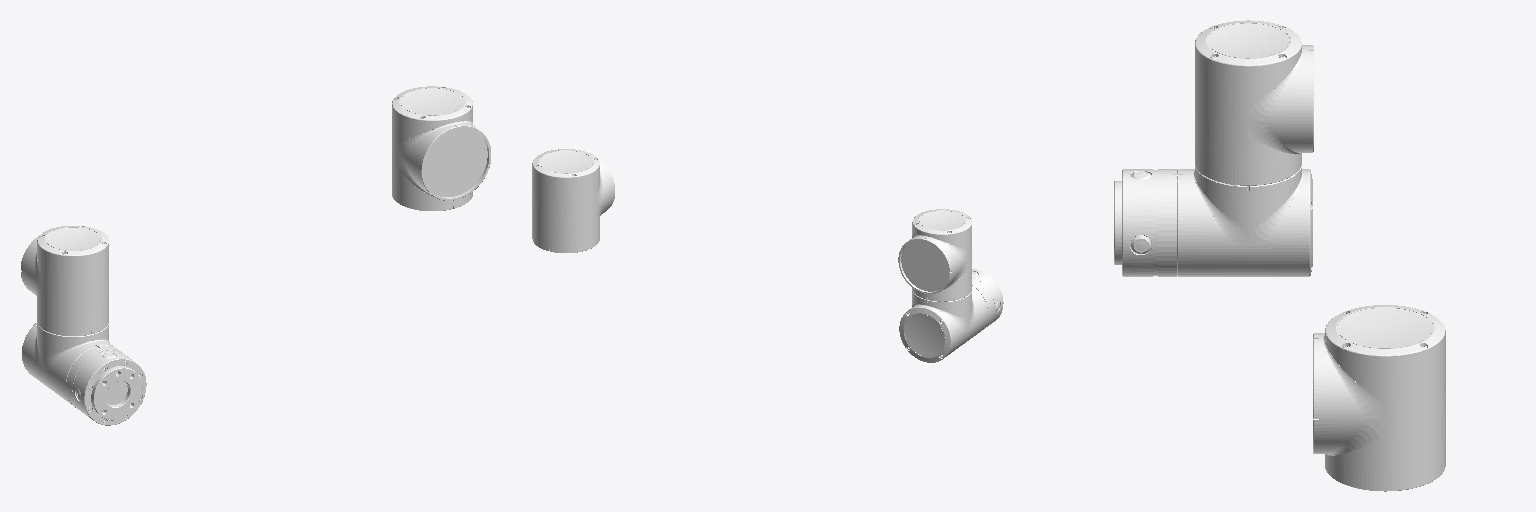
URDF robot description (fr3c):
<?xml version="1.0" encoding="utf-8"?>
<!-- This URDF was automatically created by SolidWorks to URDF Exporter! Originally created by Stephen Brawner (brawner@gmail.com) 
     Commit Version: 1.5.1-0-g916b5db  Build Version: 1.5.7152.31018
     For more information, please see http://wiki.ros.org/sw_urdf_exporter -->
<robot
  name="fr3c">
  <link
    name="base_link">
    <inertial>
      <origin
        xyz="-1.5389E-05 0.0050006 0.035726"
        rpy="0 0 0" />
      <mass
        value="0.60007" />
      <inertia
        ixx="0.00077666"
        ixy="5.901E-07"
        ixz="4.3886E-07"
        iyy="0.00066312"
        iyz="-1.924E-05"
        izz="0.00080686" />
    </inertial>
    <visual>
      <origin
        xyz="0 0 0"
        rpy="0 0 0" />
      <geometry>
        <mesh
          filename="package://fairino_description/meshes/fr3c/visual/base_link.dae" />
      </geometry>
      <material
        name="">
        <color
          rgba="1 1 1 1" />
      </material>
    </visual>
    <collision>
      <origin
        xyz="0 0 0"
        rpy="0 0 0" />
      <geometry>
        <mesh
          filename="package://fairino_description/meshes/fr3c/collision/base_link.STL" />
      </geometry>
    </collision>
  </link>
  <link
    name="shoulder_Link">
    <inertial>
      <origin
        xyz="-0.00016 -0.01399 0.00153"
        rpy="0 0 0" />
      <mass
        value="1.69" />
      <inertia
        ixx="0.00230233"
        ixy="0.00000796"
        ixz="0.00000988"
        iyy="0.00172232"
        iyz="0.00003216"
        izz="0.00230714" />
    </inertial>
    <visual>
      <origin
        xyz="0 0 0"
        rpy="0 0 0" />
      <geometry>
        <mesh
          filename="package://fairino_description/meshes/fr3c/visual/shoulder_Link.dae" />
      </geometry>
      <material
        name="">
        <color
          rgba="1 1 1 1" />
      </material>
    </visual>
    <collision>
      <origin
        xyz="0 0 0"
        rpy="0 0 0" />
      <geometry>
        <mesh
          filename="package://fairino_description/meshes/fr3c/collision/shoulder_Link.STL" />
      </geometry>
    </collision>
  </link>
  <joint
    name="j1"
    type="revolute">
    <origin
      xyz="0 0 0"
      rpy="0 0 0" />
    <parent
      link="base_link" />
    <child
      link="shoulder_Link" />
    <axis
      xyz="0 0 1" />
    <limit
      lower="-3.0543"
      upper="3.0543"
      effort="110"
      velocity="3.15" />
    <calibration
      rising="0"
      falling="0" />
    <dynamics
      damping="0"
      friction="0" />
    <safety_controller
      soft_upper_limit="3.0543"
      soft_lower_limit="-3.0543"
      k_position="110"
      k_velocity="3.15" />
  </joint>
  <link
    name="upperarm_Link">
    <inertial>
      <origin
        xyz="0.14 0 0.10134"
        rpy="0 0 0" />
      <mass
        value="3.73" />
      <inertia
        ixx="0.00529686"
        ixy="0.00005608"
        ixz="0.00000013"
        iyy="0.07120429"
        iyz="0.00000005"
        izz="0.06998187" />
    </inertial>
    <visual>
      <origin
        xyz="0 0 0"
        rpy="0 0 0" />
      <geometry>
        <mesh
          filename="package://fairino_description/meshes/fr3c/visual/upperarm_Link.dae" />
      </geometry>
      <material
        name="">
        <color
          rgba="1 1 1 1" />
      </material>
    </visual>
    <collision>
      <origin
        xyz="0 0 0"
        rpy="0 0 0" />
      <geometry>
        <mesh
          filename="package://fairino_description/meshes/fr3c/collision/upperarm_Link.STL" />
      </geometry>
    </collision>
  </link>
  <joint
    name="j2"
    type="revolute">
    <origin
      xyz="0 0 0.14"
      rpy="1.5708 0 0" />
    <parent
      link="shoulder_Link" />
    <child
      link="upperarm_Link" />
    <axis
      xyz="0 0 1" />
    <limit
      lower="-4.6251"
      upper="1.4835"
      effort="110"
      velocity="3.15" />
    <calibration
      rising="0"
      falling="0" />
    <dynamics
      damping="0"
      friction="0" />
    <safety_controller
      soft_upper_limit="1.4835"
      soft_lower_limit="-4.6251"
      k_position="110"
      k_velocity="3.15" />
  </joint>
  <link
    name="forearm_Link">
    <inertial>
      <origin
        xyz="0.06324 0.00008 0.01104"
        rpy="0 0 0" />
      <mass
        value="1.84" />
      <inertia
        ixx="0.00224646"
        ixy="0.00000255"
        ixz="0.00000765"
        iyy="0.01764629"
        iyz="0.00000075"
        izz="0.01732032" />
    </inertial>
    <visual>
      <origin
        xyz="0 0 0"
        rpy="0 0 0" />
      <geometry>
        <mesh
          filename="package://fairino_description/meshes/fr3c/visual/forearm_Link.dae" />
      </geometry>
      <material
        name="">
        <color
          rgba="1 1 1 1" />
      </material>
    </visual>
    <collision>
      <origin
        xyz="0 0 0"
        rpy="0 0 0" />
      <geometry>
        <mesh
          filename="package://fairino_description/meshes/fr3c/collision/forearm_Link.STL" />
      </geometry>
    </collision>
  </link>
  <joint
    name="j3"
    type="revolute">
    <origin
      xyz="-0.28 0 3.3292E-05"
      rpy="0 0 0" />
    <parent
      link="upperarm_Link" />
    <child
      link="forearm_Link" />
    <axis
      xyz="0 0 1" />
    <limit
      lower="-2.618"
      upper="2.618"
      effort="110"
      velocity="3.15" />
    <calibration
      rising="0"
      falling="0" />
    <dynamics
      damping="0"
      friction="0" />
    <safety_controller
      soft_upper_limit="2.618"
      soft_lower_limit="-2.618"
      k_position="110"
      k_velocity="3.15" />
  </joint>
  <link
    name="wrist1_Link">
    <inertial>
      <origin
        xyz="0.0001 -0.00203 0.01255"
        rpy="0 0 0" />
      <mass
        value="1.2" />
      <inertia
        ixx="0.00131806"
        ixy="-0.00000258"
        ixz="-0.00000247"
        iyy="0.00130342"
        iyz="-0.00002666"
        izz="0.0009916" />
    </inertial>
    <visual>
      <origin
        xyz="0 0 0"
        rpy="0 0 0" />
      <geometry>
        <mesh
          filename="package://fairino_description/meshes/fr3c/visual/wrist1_Link.dae" />
      </geometry>
      <material
        name="">
        <color
          rgba="1 1 1 1" />
      </material>
    </visual>
    <collision>
      <origin
        xyz="0 0 0"
        rpy="0 0 0" />
      <geometry>
        <mesh
          filename="package://fairino_description/meshes/fr3c/collision/wrist1_Link.STL" />
      </geometry>
    </collision>
  </link>
  <joint
    name="j4"
    type="revolute">
    <origin
      xyz="-0.24 0 2.7002E-05"
      rpy="0 0 0" />
    <parent
      link="forearm_Link" />
    <child
      link="wrist1_Link" />
    <axis
      xyz="0 0 1" />
    <limit
      lower="-4.6251"
      upper="1.4835"
      effort="63"
      velocity="3.2" />
    <calibration
      rising="0"
      falling="0" />
    <dynamics
      damping="0"
      friction="0" />
    <safety_controller
      soft_upper_limit="1.4835"
      soft_lower_limit="-4.6251"
      k_position="63"
      k_velocity="3.2" />
  </joint>
  <link
    name="wrist2_Link">
    <inertial>
      <origin
        xyz="-0.0001 0.00203 0.01255"
        rpy="0 0 0" />
      <mass
        value="1.2" />
      <inertia
        ixx="0.00131806"
        ixy="-0.00000258"
        ixz="0.00000247"
        iyy="0.00130342"
        iyz="0.00002666"
        izz="0.0009916" />
    </inertial>
    <visual>
      <origin
        xyz="0 0 0"
        rpy="0 0 0" />
      <geometry>
        <mesh
          filename="package://fairino_description/meshes/fr3c/visual/wrist2_Link.dae" />
      </geometry>
      <material
        name="">
        <color
          rgba="1 1 1 1" />
      </material>
    </visual>
    <collision>
      <origin
        xyz="0 0 0"
        rpy="0 0 0" />
      <geometry>
        <mesh
          filename="package://fairino_description/meshes/fr3c/collision/wrist2_Link.STL" />
      </geometry>
    </collision>
  </link>
  <joint
    name="j5"
    type="revolute">
    <origin
      xyz="1.1476E-05 0 0.102"
      rpy="1.5708 0 0" />
    <parent
      link="wrist1_Link" />
    <child
      link="wrist2_Link" />
    <axis
      xyz="0 0 1" />
    <limit
      lower="0"
      upper="6.2657"
      effort="63"
      velocity="3.2" />
    <calibration
      rising="0"
      falling="0" />
    <dynamics
      damping="0"
      friction="0" />
    <safety_controller
      soft_upper_limit="6.2657"
      soft_lower_limit="0"
      k_position="63"
      k_velocity="3.2" />
  </joint>
  <link
    name="wrist3_Link">
    <inertial>
      <origin
        xyz="-0.00148 -0.00154 -0.0179"
        rpy="0 0 0" />
      <mass
        value="0.53" />
      <inertia
        ixx="0.00033622"
        ixy="0.00000116"
        ixz="0.00000051"
        iyy="0.00033508"
        iyz="0.00000089"
        izz="0.00053494" />
    </inertial>
    <visual>
      <origin
        xyz="0 0 0"
        rpy="0 0 0" />
      <geometry>
        <mesh
          filename="package://fairino_description/meshes/fr3c/visual/wrist3_Link.dae" />
      </geometry>
      <material
        name="">
        <color
          rgba="1 1 1 1" />
      </material>
    </visual>
    <collision>
      <origin
        xyz="0 0 0"
        rpy="0 0 0" />
      <geometry>
        <mesh
          filename="package://fairino_description/meshes/fr3c/collision/wrist3_Link.STL" />
      </geometry>
    </collision>
  </link>
  <joint
    name="j6"
    type="revolute">
    <origin
      xyz="1.1255E-05 0.1 0.102"
      rpy="-1.5708 0 0" />
    <parent
      link="wrist2_Link" />
    <child
      link="wrist3_Link" />
    <axis
      xyz="0 0 1" />
    <limit
      lower="-3.0543"
      upper="3.0543"
      effort="63"
      velocity="3.2" />
    <calibration
      rising="0"
      falling="0" />
    <dynamics
      damping="0"
      friction="0" />
    <safety_controller
      soft_upper_limit="3.0543"
      soft_lower_limit="-3.0543"
      k_position="63"
      k_velocity="3.2" />
  </joint>
</robot>

--- Facts derived from the render (not from the file) ---
3 views of the same robot in one strip: view 1: azimuth 30°, elevation 25°; view 2: azimuth 150°, elevation 25°; view 3: azimuth 270°, elevation 25° (orthographic).
Model fr3c with 7 links and 6 joints (6 revolute), rooted at base_link, posed all joints at 0.
Visible links, largest first — view 1: shoulder_Link, wrist1_Link, wrist3_Link, wrist2_Link; view 2: shoulder_Link, wrist1_Link, wrist2_Link, wrist3_Link; view 3: shoulder_Link, wrist1_Link, wrist2_Link, wrist3_Link.
Boxes of the visible links, <box> form: shoulder_Link: <box>392,86,490,210</box>; wrist1_Link: <box>21,226,108,335</box>; wrist3_Link: <box>66,345,146,425</box>; wrist2_Link: <box>22,322,116,407</box>; shoulder_Link: <box>532,149,614,252</box>; wrist1_Link: <box>898,209,971,301</box>; wrist2_Link: <box>899,286,987,362</box>; wrist3_Link: <box>972,269,1003,329</box>; shoulder_Link: <box>1313,305,1445,491</box>; wrist1_Link: <box>1195,20,1313,185</box>; wrist2_Link: <box>1177,166,1312,276</box>; wrist3_Link: <box>1114,169,1176,276</box>.
Bounding box of the posed robot: 0.6054 × 0.2471 × 0.1964 m (x, y, z).
4 mesh visuals loaded from 7 distinct referenced files (4 Collada DAE); not drawn: 3 (reference not matched to a file when rendering).
